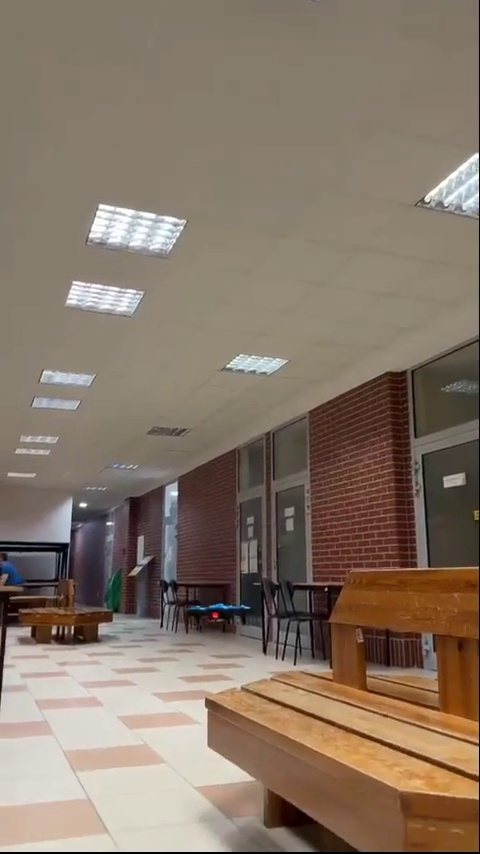drone: (180, 601, 252, 632)
